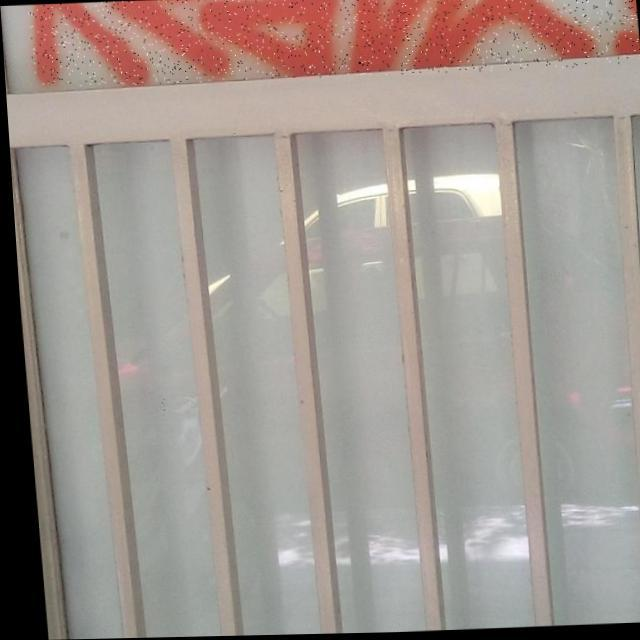-: (26, 0, 640, 89)
